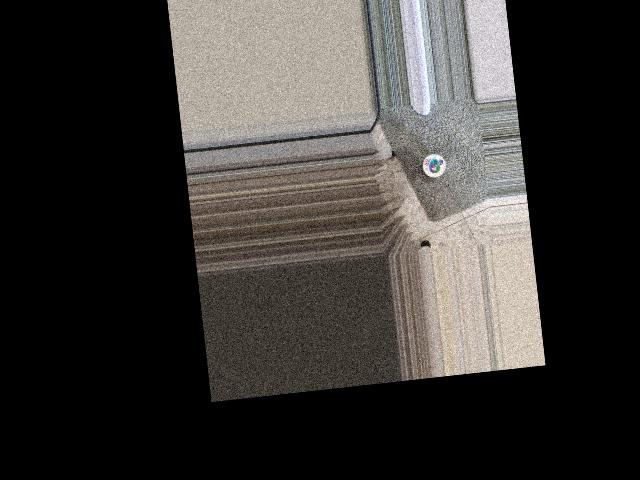cotage: (421, 153, 447, 179)
